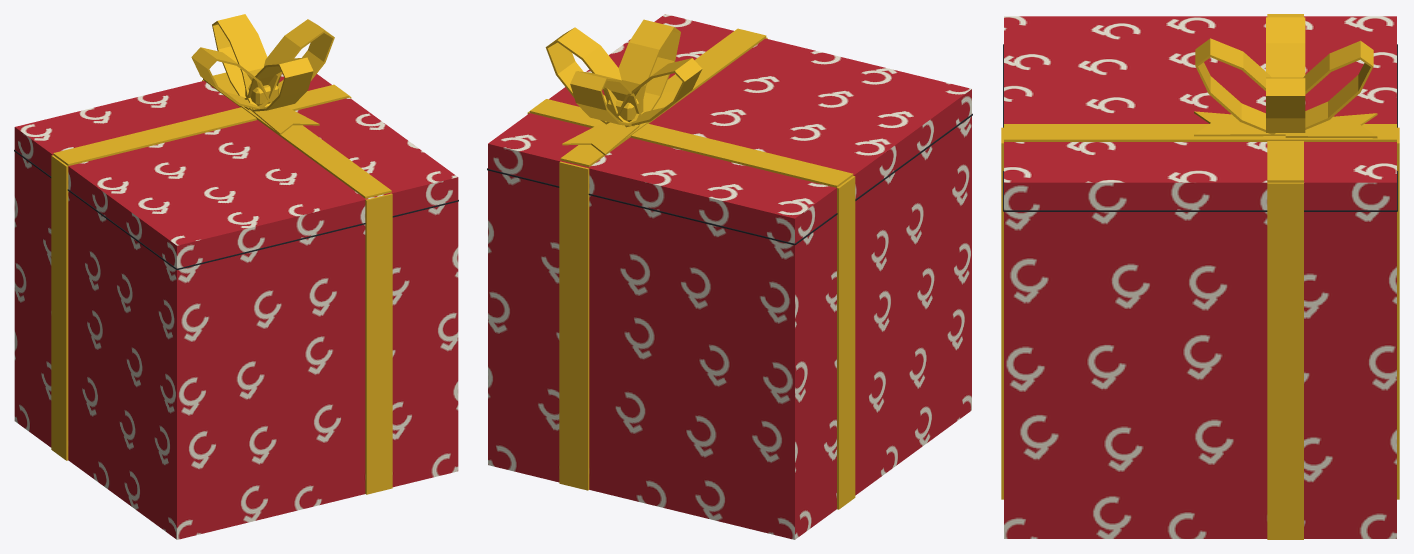
The model's file is party_gift_red.glb.
3 views of the same model, side by side, from view 1: azimuth 30°, elevation 25°; view 2: azimuth 150°, elevation 25°; view 3: azimuth 270°, elevation 25° (orthographic). The views are drawn at different scales.
Visible parts, largest first — view 1: party_gift_red_body; view 2: party_gift_red_body; view 3: party_gift_red_body.
Part boxes in pixels (bbox=[...]): party_gift_red_body: bbox=[14, 14, 458, 539]; party_gift_red_body: bbox=[487, 14, 972, 539]; party_gift_red_body: bbox=[1001, 14, 1399, 539].
Bounding box in the file's own units: 0.304 × 0.3748 × 0.304.
3 materials, 3 textured.
